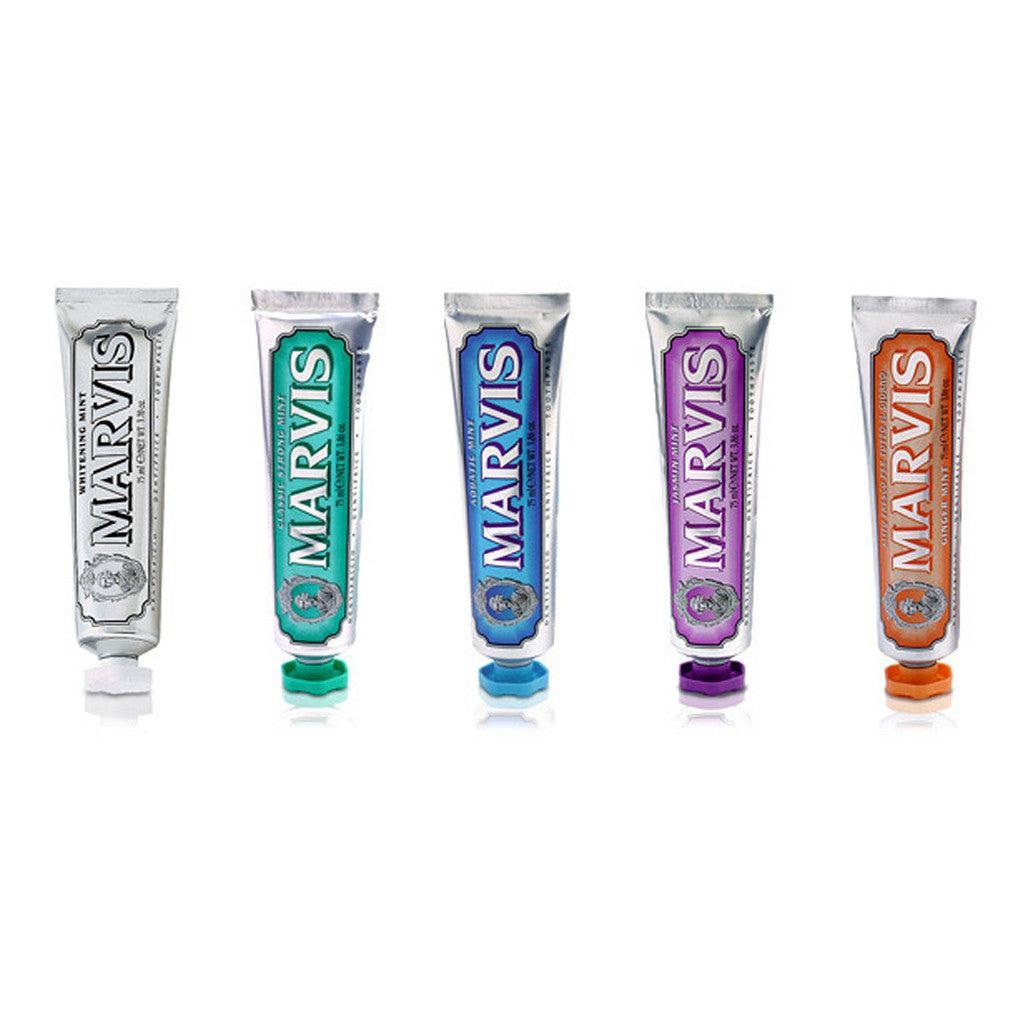toothpaste: (624, 266, 803, 735), (34, 269, 213, 720), (847, 274, 1015, 725), (236, 261, 382, 729), (434, 274, 574, 754)
